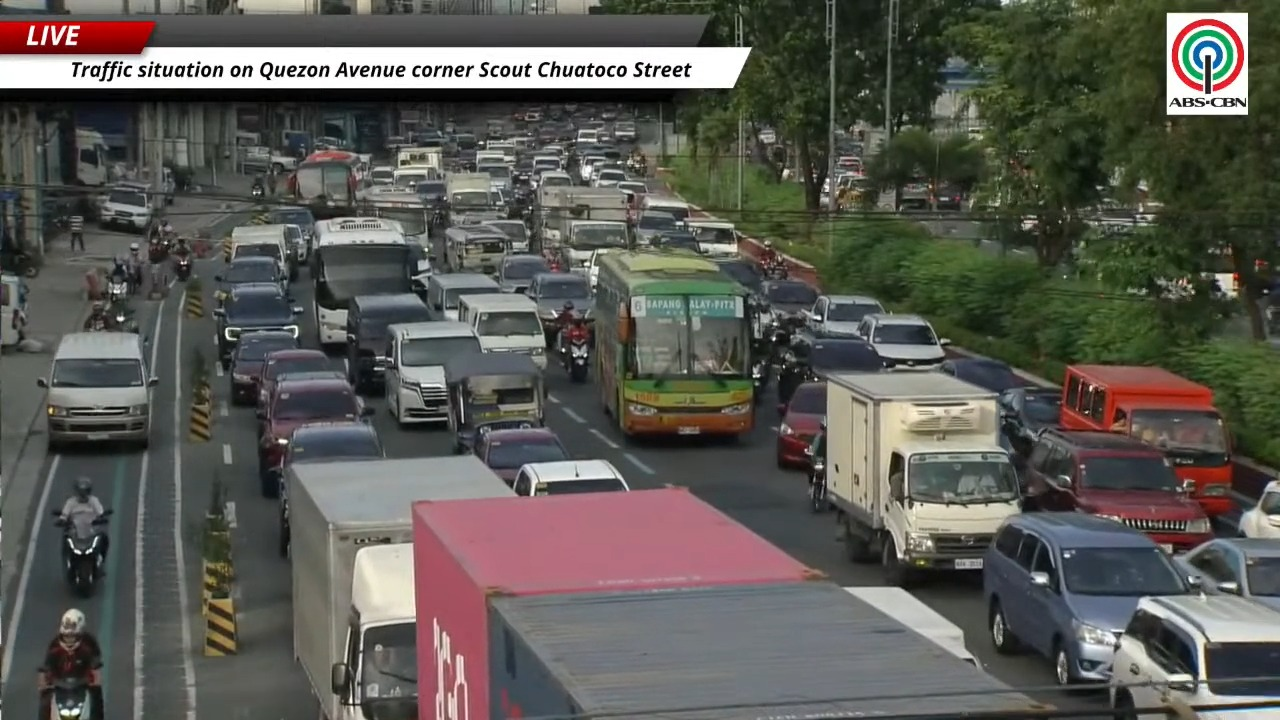bus: (592, 250, 754, 436), (311, 217, 415, 347), (286, 150, 363, 218), (357, 186, 429, 245)
car: (982, 512, 1190, 685), (1022, 429, 1212, 553), (1108, 595, 1279, 719), (275, 421, 384, 557), (257, 377, 372, 497), (777, 334, 885, 413), (214, 284, 302, 370), (1175, 538, 1279, 608), (473, 427, 570, 485), (857, 313, 949, 370), (229, 330, 298, 405), (257, 348, 340, 406), (998, 386, 1061, 459), (525, 272, 591, 341), (776, 382, 827, 469), (512, 459, 629, 496), (255, 369, 345, 410), (807, 295, 884, 336), (214, 256, 284, 301), (938, 357, 1028, 392), (760, 279, 818, 326), (99, 184, 154, 232), (268, 206, 315, 261), (1237, 480, 1279, 539), (496, 254, 550, 292), (713, 259, 763, 294), (635, 211, 681, 245), (482, 220, 529, 252), (652, 230, 700, 253), (931, 183, 964, 211), (616, 180, 648, 201), (593, 168, 626, 187), (613, 121, 637, 142)
motorcycle: (52, 509, 112, 597), (49, 678, 94, 719), (806, 445, 828, 513), (563, 333, 589, 382), (0, 250, 38, 277), (752, 356, 770, 403), (106, 273, 129, 304), (761, 256, 788, 279), (148, 237, 168, 263), (173, 253, 191, 281), (626, 157, 647, 176), (251, 184, 264, 199)
truck: (414, 488, 1042, 719), (286, 456, 513, 719), (825, 372, 1021, 586), (844, 586, 980, 666), (539, 186, 629, 245), (445, 173, 505, 224), (75, 127, 110, 186), (239, 145, 296, 173), (396, 147, 442, 171)
